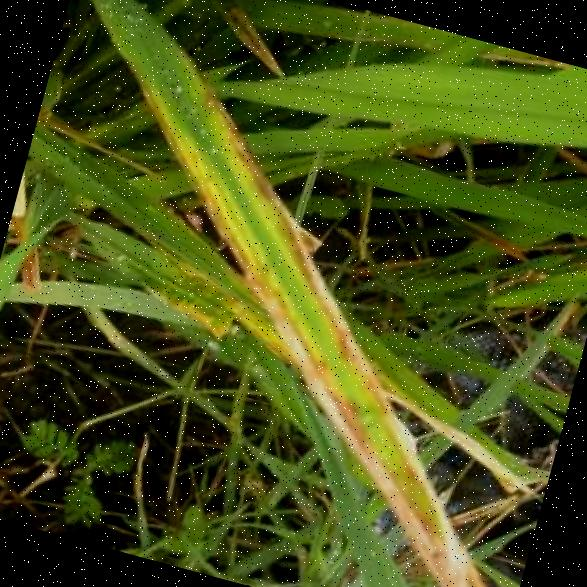Bacteria_Leaf_Blight: (200, 195, 427, 454)
